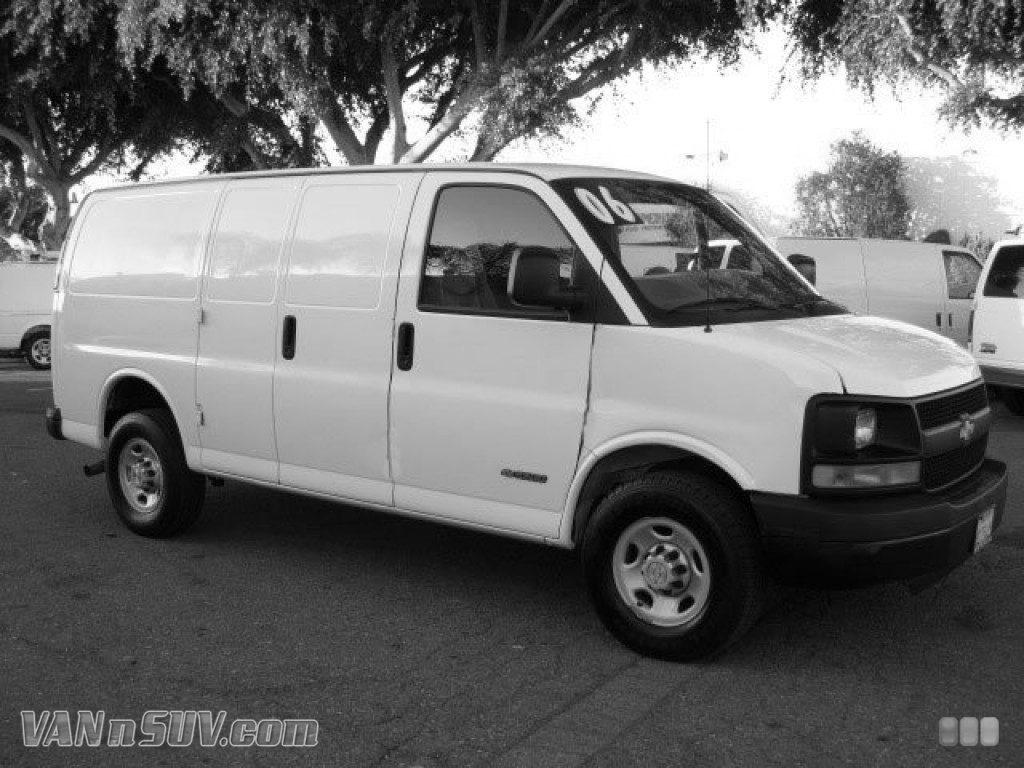car: (39, 160, 1019, 671)
